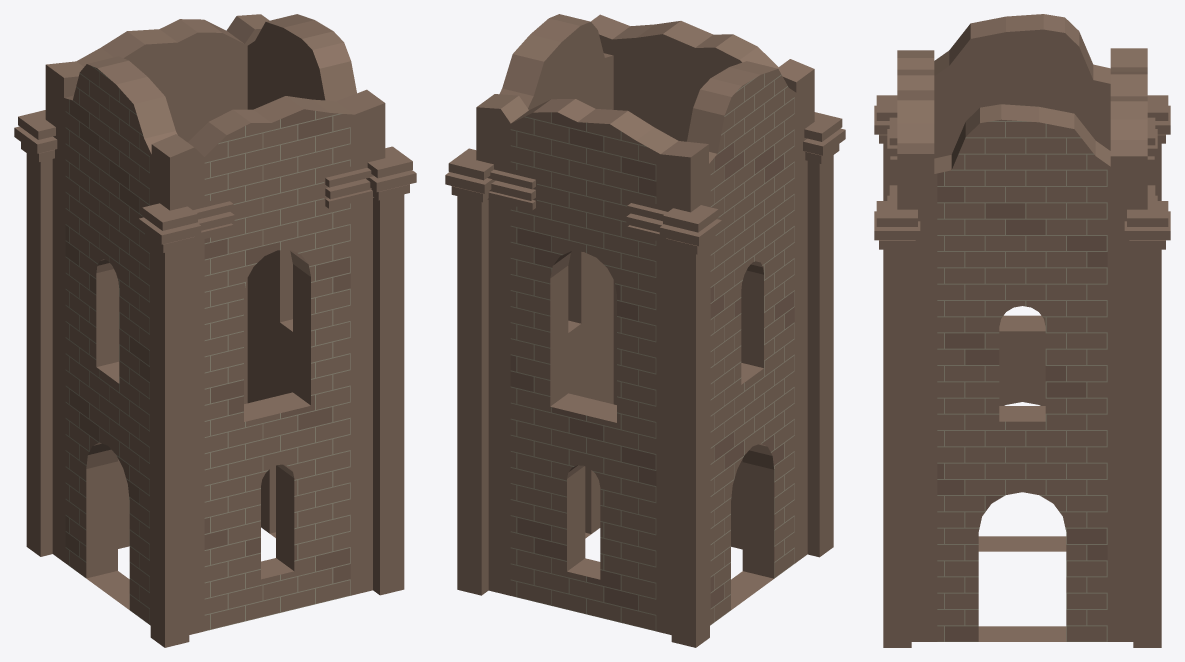
The model's file is colonial-dorchester-bell-tower-far.glb.
3 renders of one model, left to right at view 1: azimuth 30°, elevation 25°; view 2: azimuth 150°, elevation 25°; view 3: azimuth 270°, elevation 25°, orthographic.
Parts seen in each view (by area): view 1: colonial-dorchester-bell-tower-0-brick, colonial-dorchester-bell-tower-0-mortar, colonial-dorchester-bell-tower-0-brickShade; view 2: colonial-dorchester-bell-tower-0-brick, colonial-dorchester-bell-tower-0-mortar, colonial-dorchester-bell-tower-0-brickShade; view 3: colonial-dorchester-bell-tower-0-brick, colonial-dorchester-bell-tower-0-mortar, colonial-dorchester-bell-tower-0-brickShade.
Boxes of the visible parts, x1,y1,x2,y2 form: colonial-dorchester-bell-tower-0-brick: (14,14,416,647); colonial-dorchester-bell-tower-0-mortar: (65,66,350,631); colonial-dorchester-bell-tower-0-brickShade: (65,99,350,583); colonial-dorchester-bell-tower-0-brick: (445,14,845,647); colonial-dorchester-bell-tower-0-mortar: (510,73,794,631); colonial-dorchester-bell-tower-0-brickShade: (510,112,794,610); colonial-dorchester-bell-tower-0-brick: (874,14,1170,647); colonial-dorchester-bell-tower-0-mortar: (937,121,1107,641); colonial-dorchester-bell-tower-0-brickShade: (937,172,1107,641).
Bounding box in the file's own units: 6.28 × 12.2 × 6.28.
